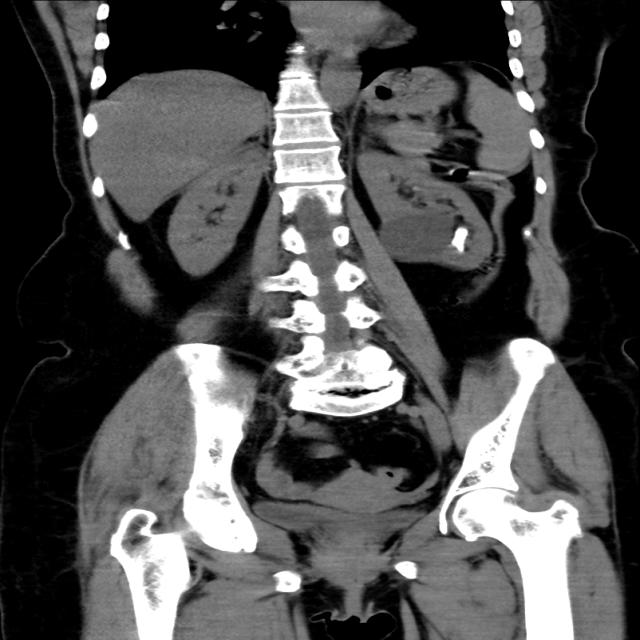kidneystone: (451, 226, 468, 252)
